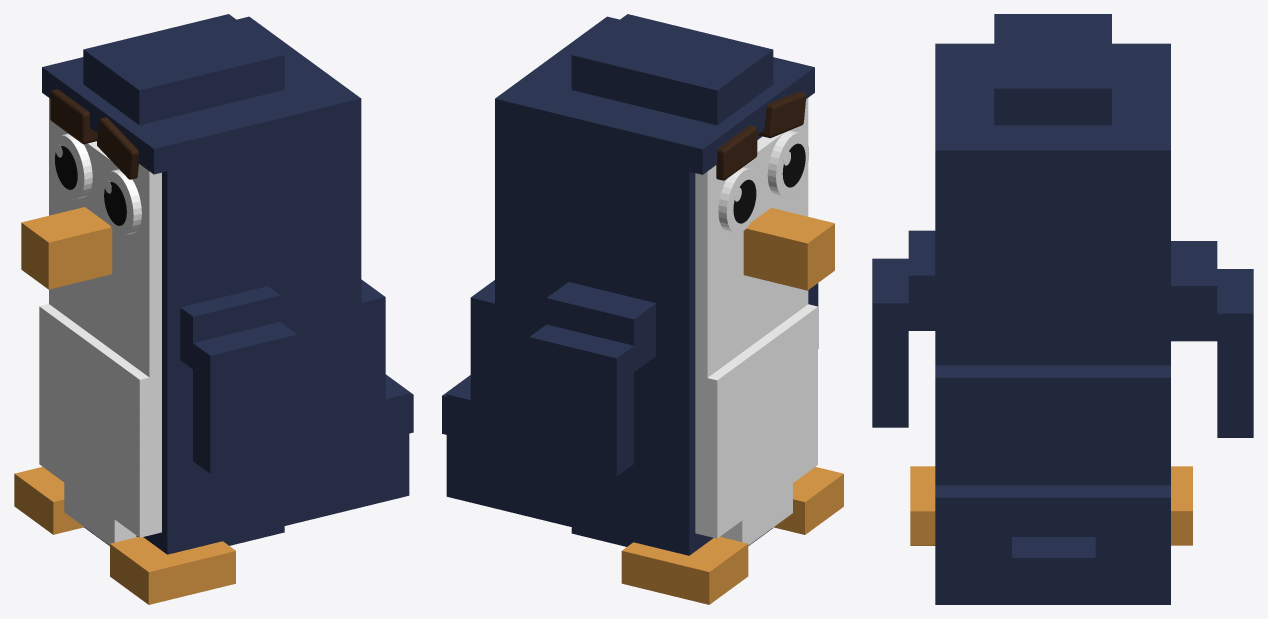
3 renders of one model, left to right at view 1: azimuth 30°, elevation 25°; view 2: azimuth 150°, elevation 25°; view 3: azimuth 270°, elevation 25°, orthographic. The views are drawn at different scales.
Visible parts, largest first — view 1: BipJamExport_pingwin; view 2: BipJamExport_pingwin; view 3: BipJamExport_pingwin.
Part boxes in pixels (box(x1,y1,x2,y2)): BipJamExport_pingwin: box(14, 14, 413, 604); BipJamExport_pingwin: box(442, 14, 843, 604); BipJamExport_pingwin: box(872, 14, 1253, 604).
Size of the model in its own units: 0.7381 by 0.9399 by 0.6456.
